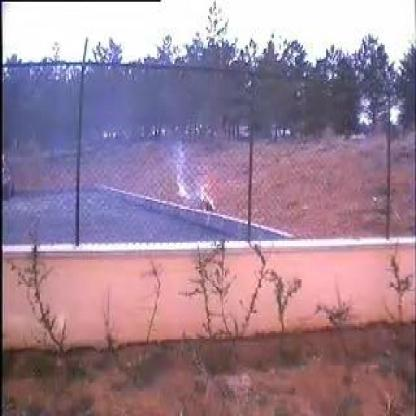-: (85, 119, 204, 237)
